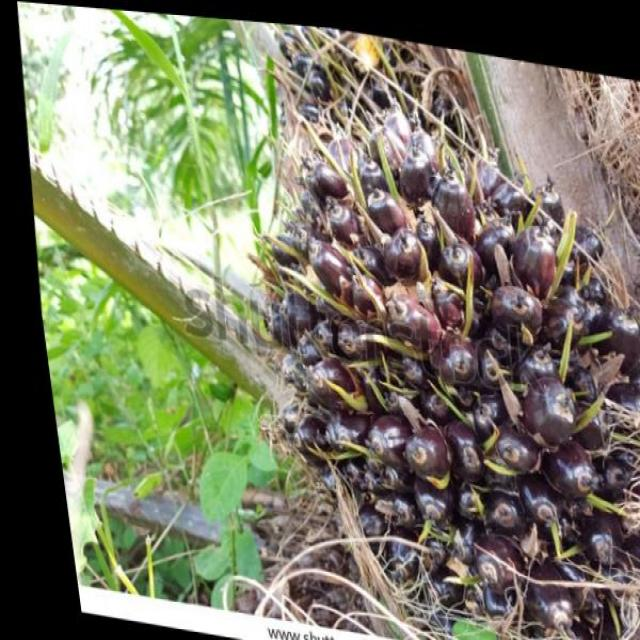Unripe: (214, 71, 640, 640)
